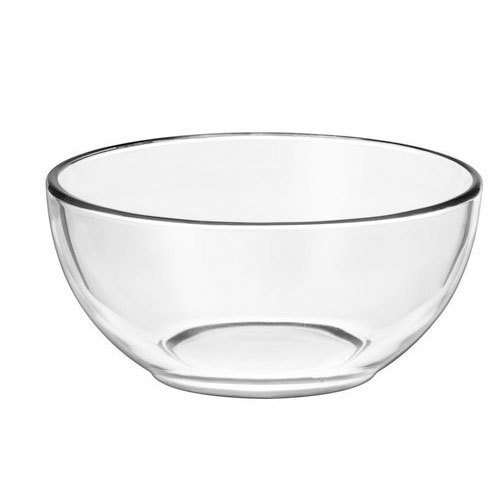glass: (42, 130, 485, 400)
